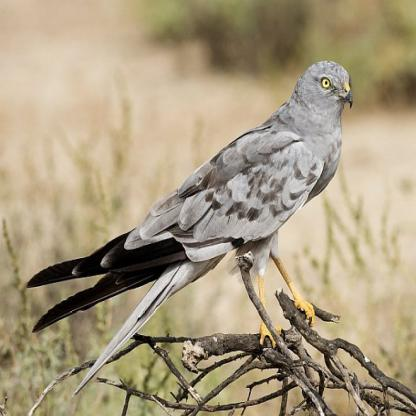Burung: (27, 60, 354, 396)
